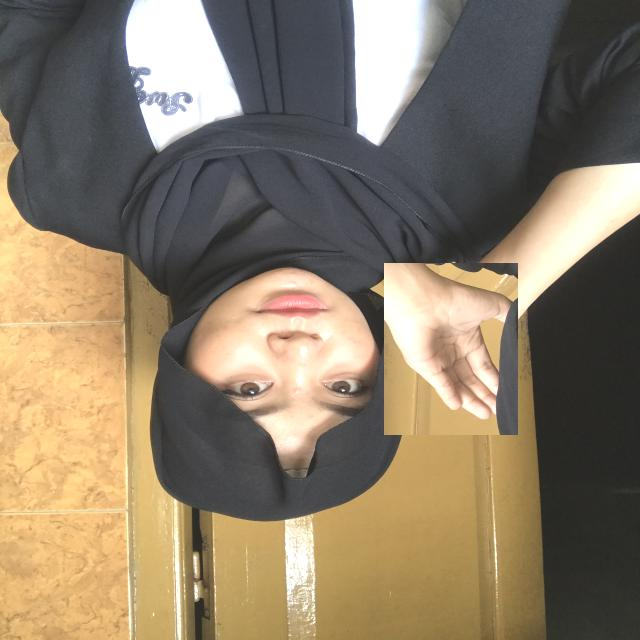mendengar: (384, 263, 518, 435)
